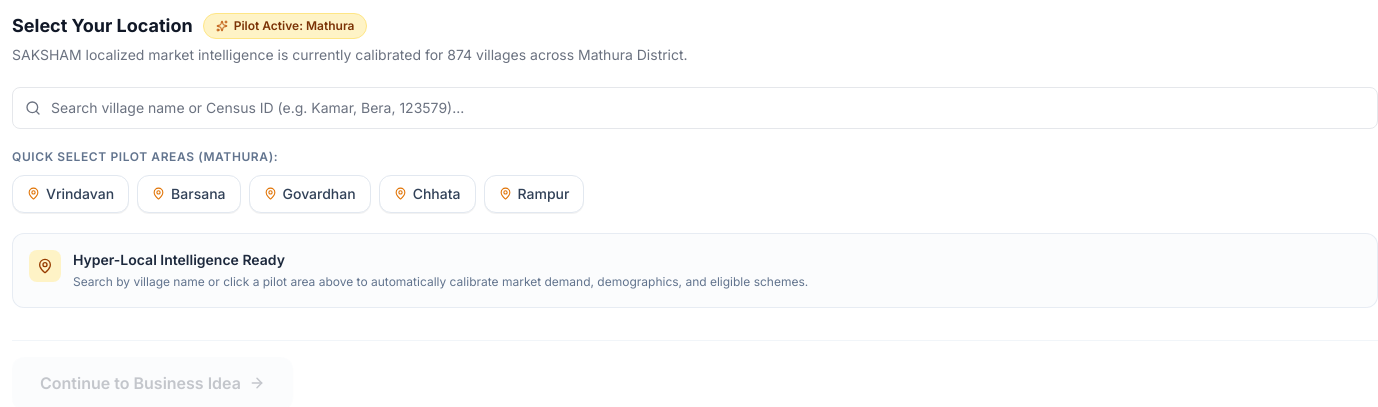
Test: StepLocation — search and selection › shows no-results status for unmatched query
Type "zzzzz" into the dropdown at (708, 108), box [51, 98, 1365, 118]
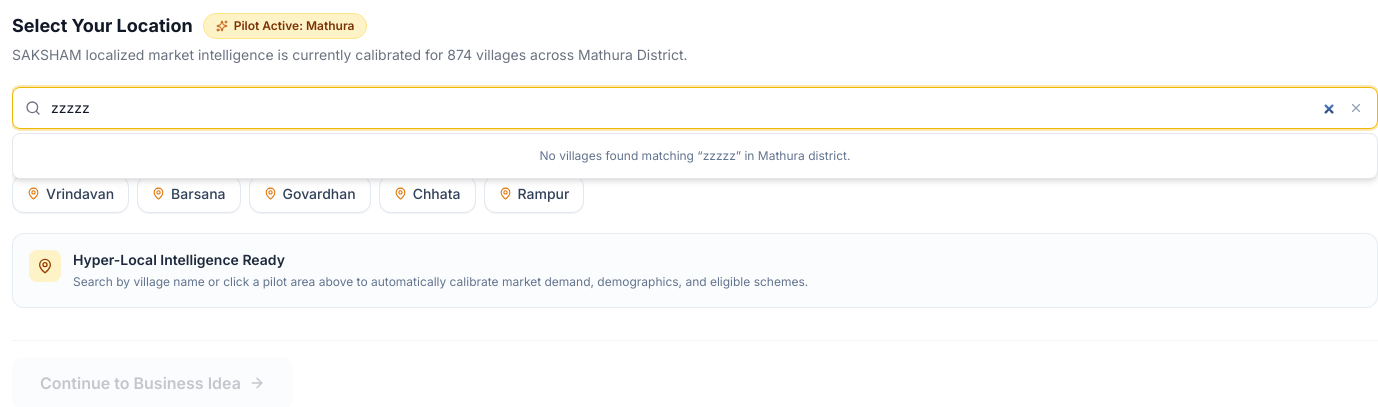
Check: the text "No villages found matching “zzzzz” in Mathura district." is shown, box [12, 133, 1377, 179]
